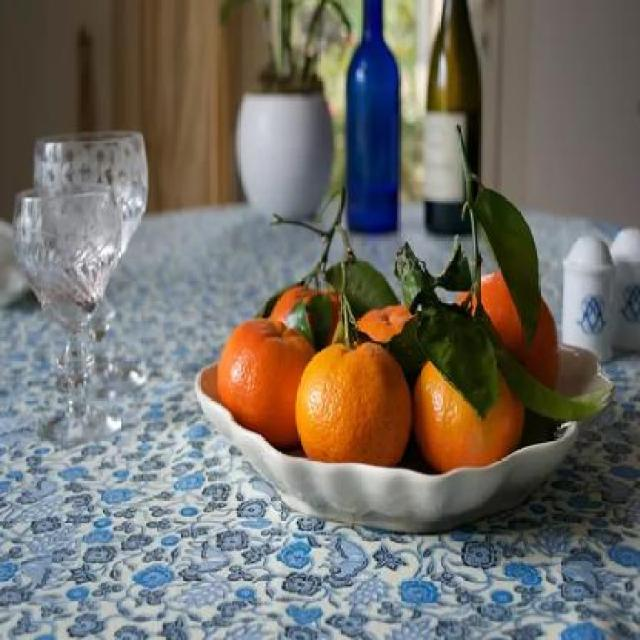Orange: (294, 339, 411, 466), (412, 352, 525, 471), (215, 316, 314, 446), (456, 269, 558, 389), (269, 283, 343, 345)
